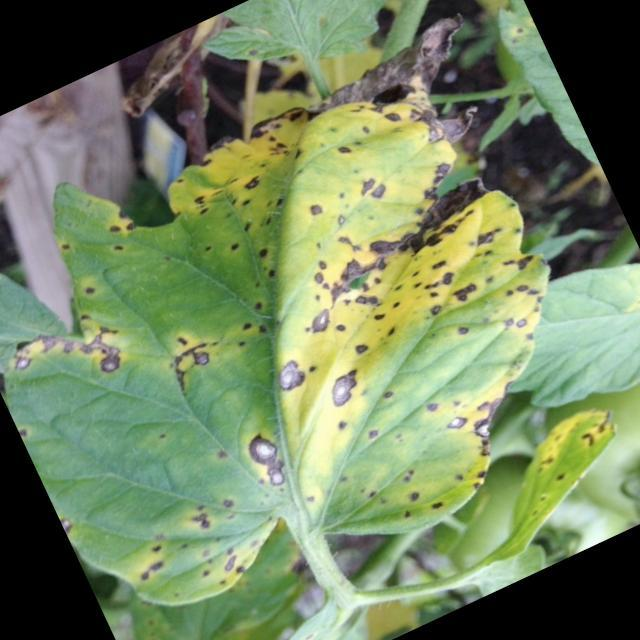Tomato Septoria spot leaf: (0, 0, 640, 640), (445, 395, 640, 574), (472, 241, 640, 439)
